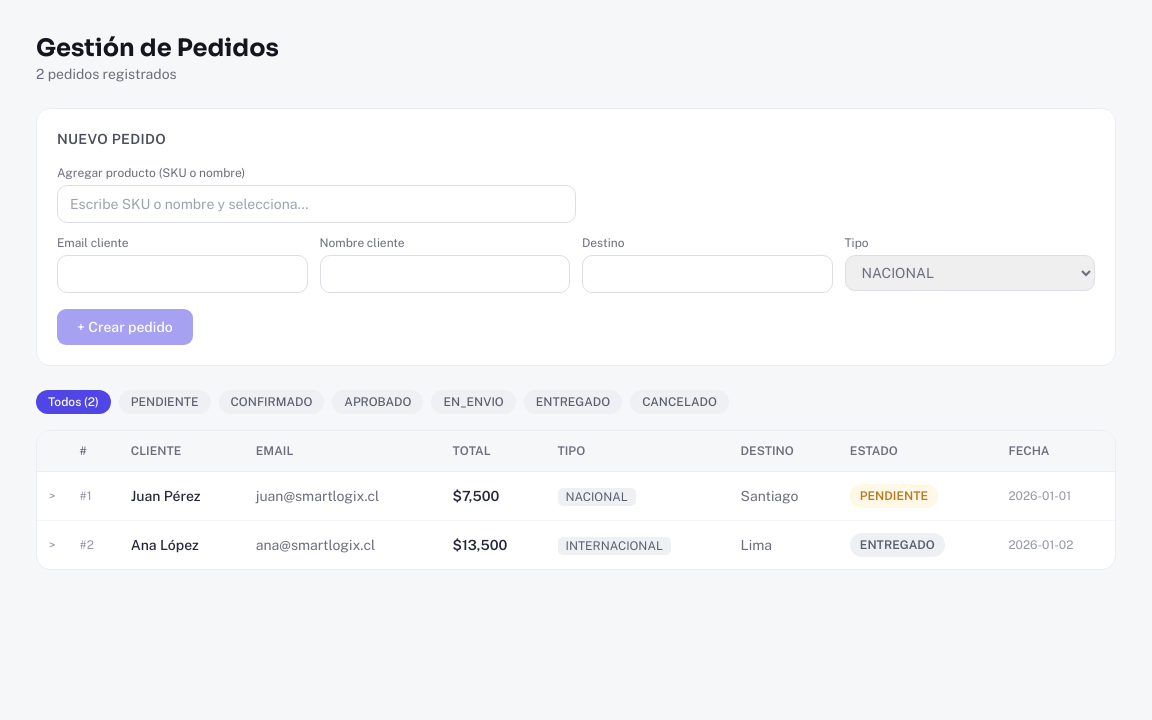
Test: Pedidos › shows the backend error message when creating a pedido fails
Expected: the text "Juan Pérez" is shown, 119,472 -> 244,520
Type "caja" into the field with placeholder "Escribe SKU o nombre y selecciona...". click: [316, 204]
box: 57,185 -> 576,223
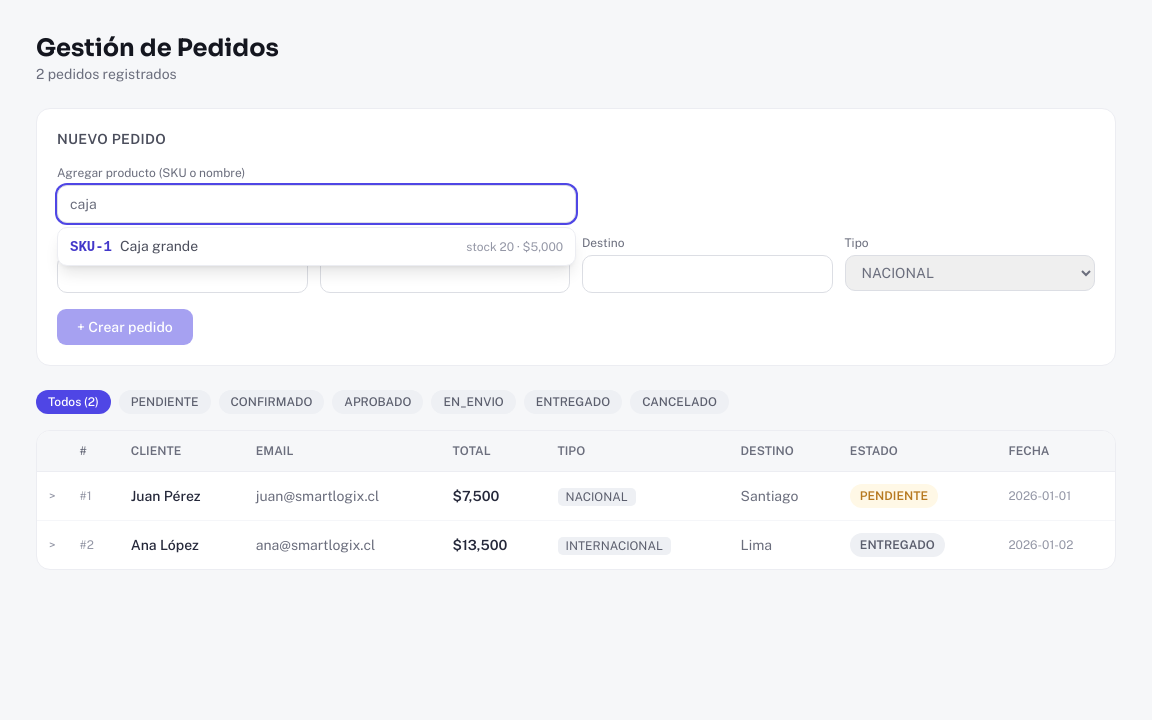
Click the text "Caja grande". click: [159, 246]
box: 120,238 -> 198,254
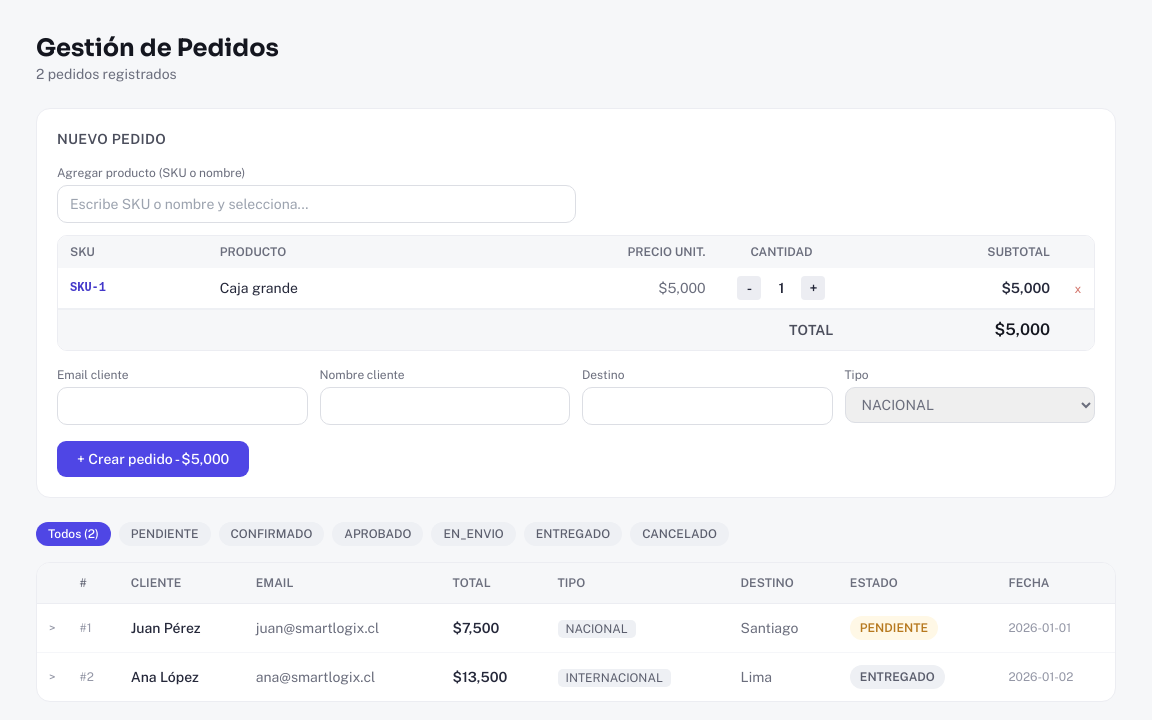
Click the button "+ Crear pedido - $5,000". click: [153, 459]
box: 57,441 -> 249,477
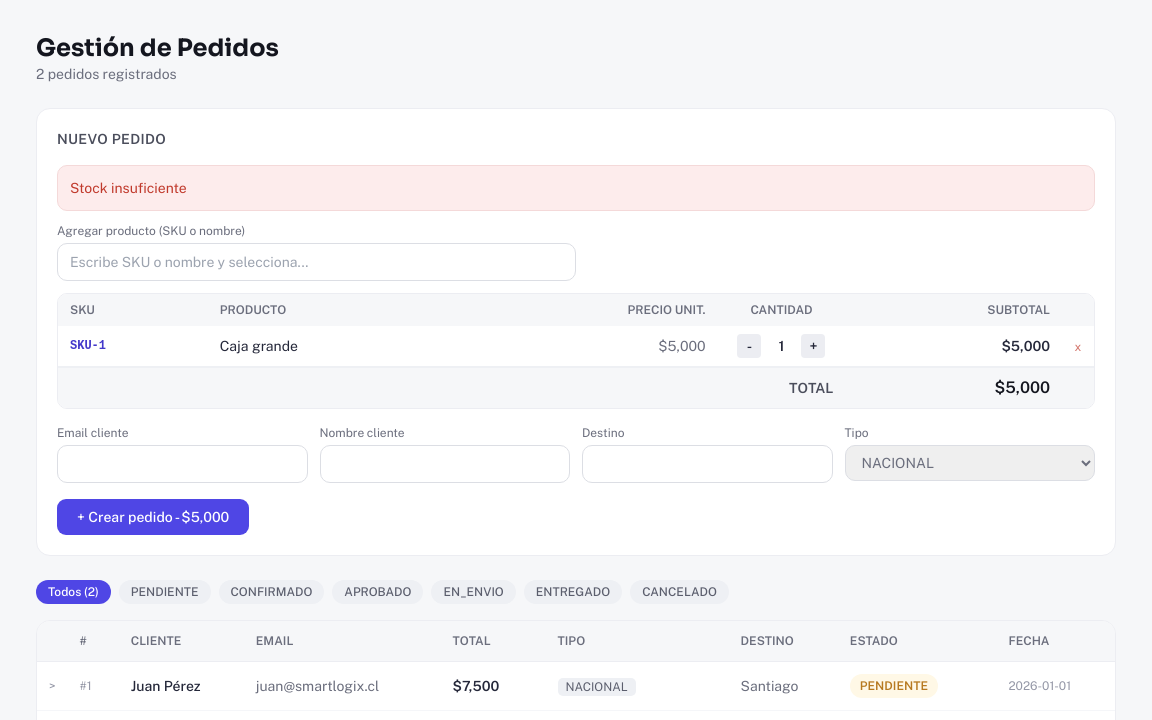
Expected: the text "Stock insuficiente" is shown, 57,165 -> 1095,211
